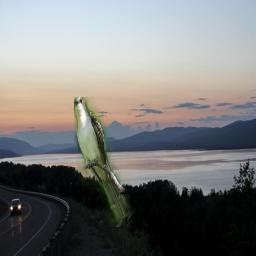Cuckoo: (74, 97, 135, 227)
